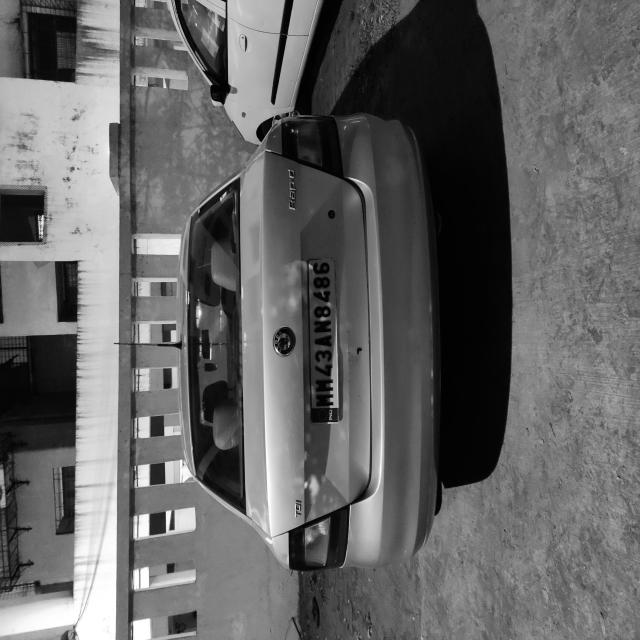car: (47, 232, 414, 623)
license-plate: (160, 408, 290, 457)
